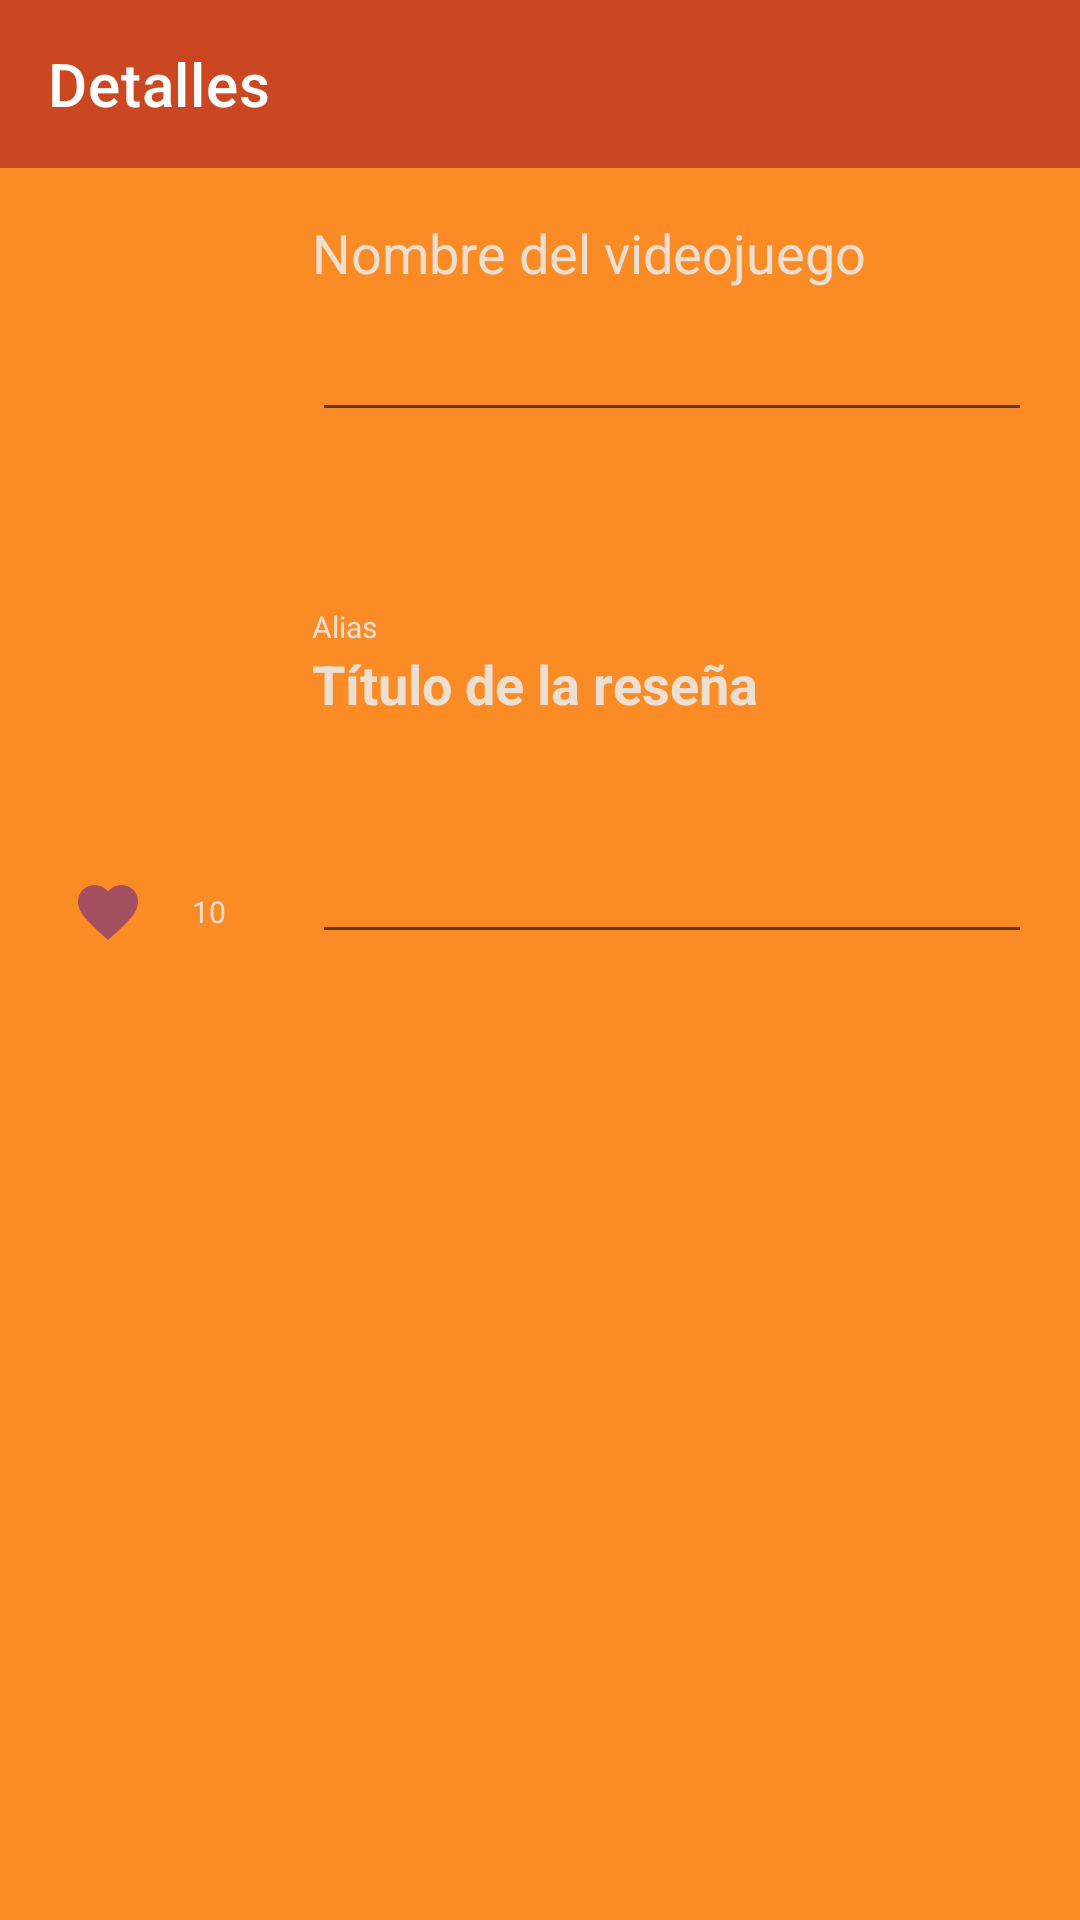

Where icons sit on this 1080w x 1920h app screen, as bbox=(x1, y1, x2, y2):
favorite: bbox=(78, 885, 138, 940)
